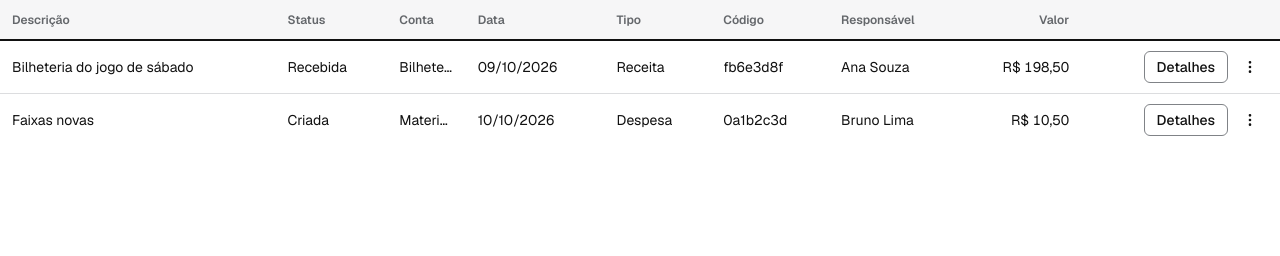
Test: ações de linha › o menu reúne as demais ações, com o texto visível e o nome que identifica a linha
Click the button named "Ações de lançamento Despesa 0a1b2c3d": [1250, 120] box [1232, 102, 1268, 138]
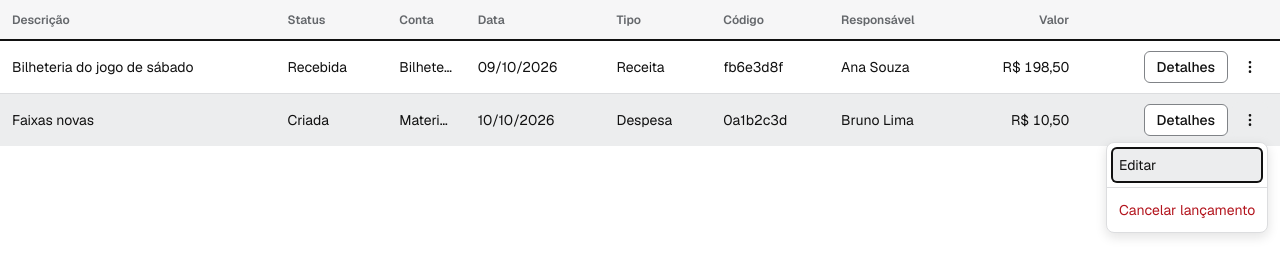
expect the menu items read "Editar", "Cancelar lançamento", in this order: met, box [1111, 147, 1263, 183]; [1119, 201, 1255, 219]
